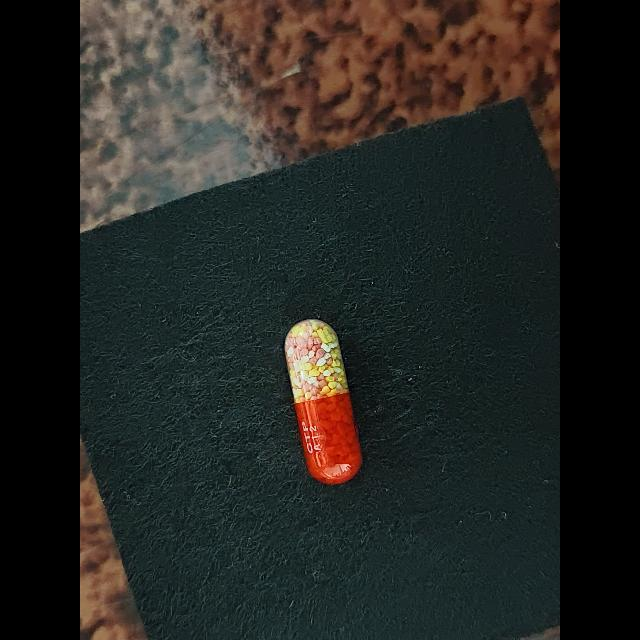Intact Capsule: (285, 319, 362, 485)
